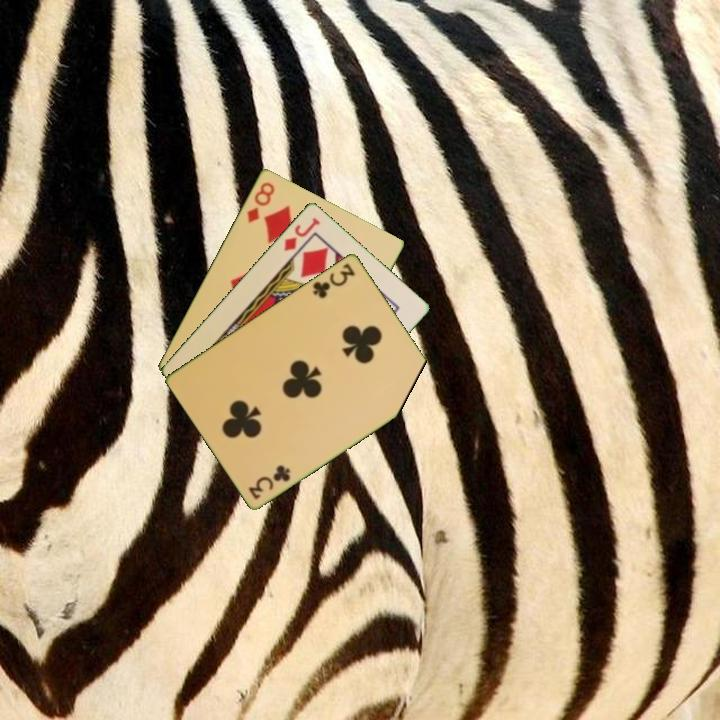3c: (309, 259, 358, 301), (245, 461, 293, 502)
8d: (243, 178, 277, 226)
Jd: (280, 213, 323, 254)
